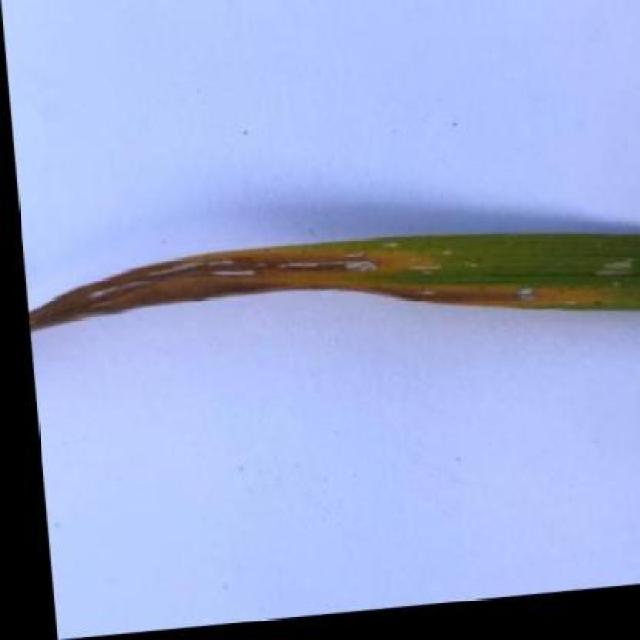Rice False Smut: (18, 219, 640, 373)
